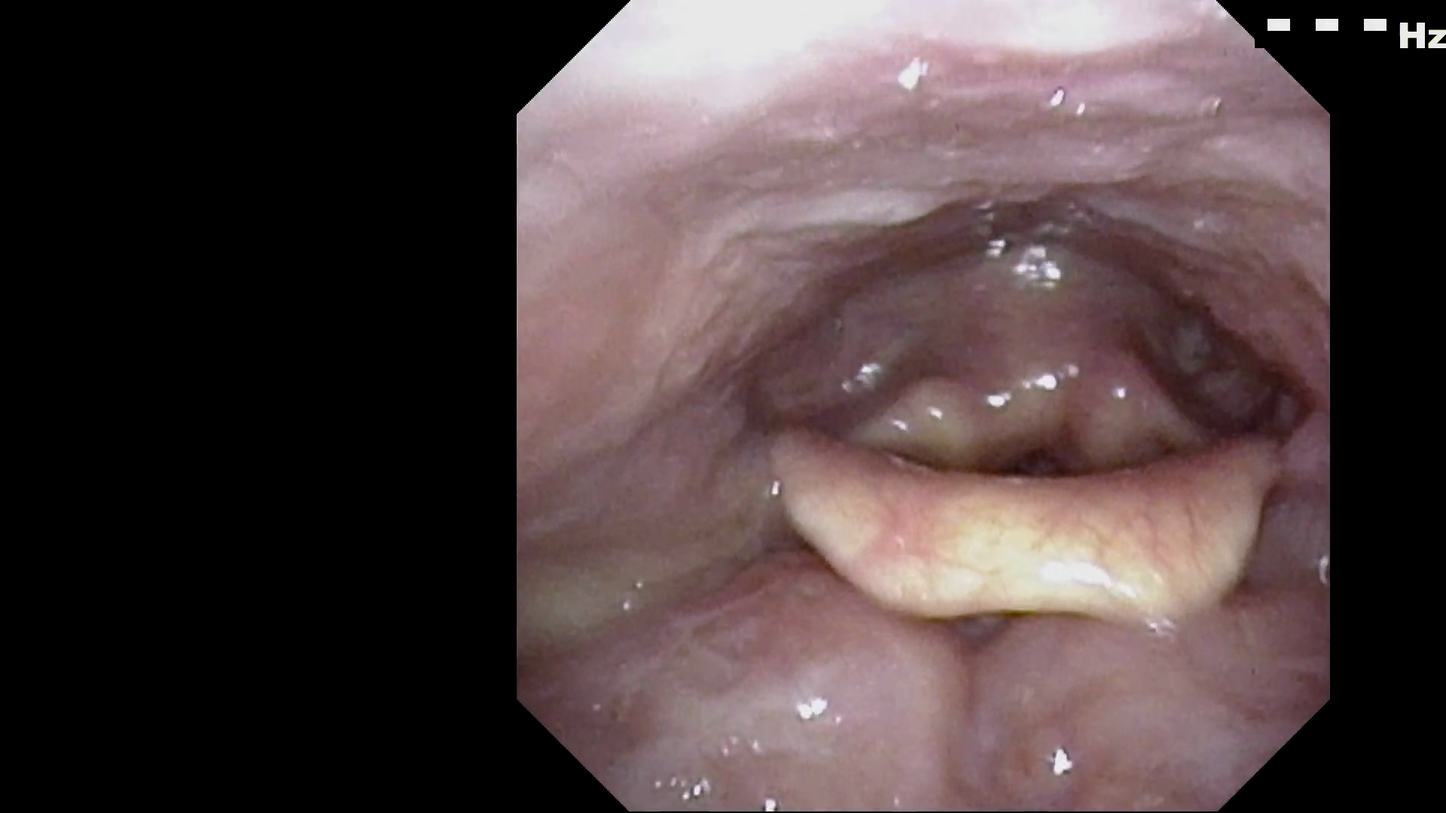epiglottis: (760, 388, 1301, 628)
trachea: (961, 381, 1108, 535)
